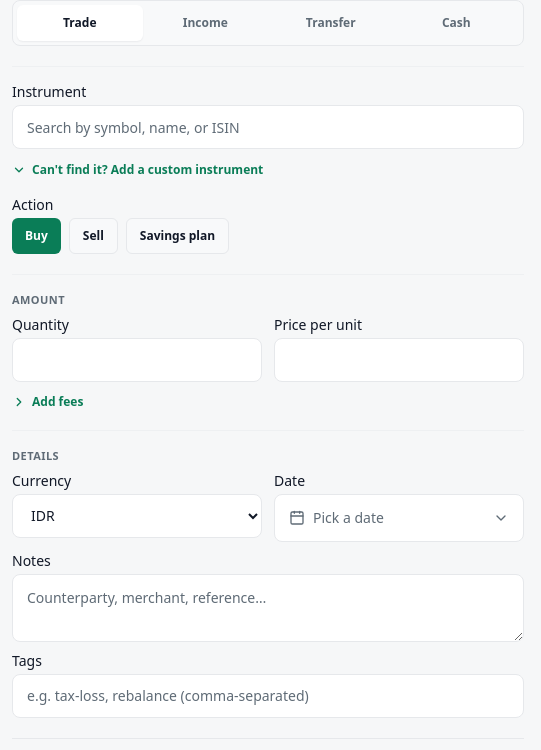
Scenario: add-transaction disclosures › collapses the fees/tax disclosure again — the button that says it is expanded must be able to close it
Click the button "Add fees" at (48, 402), box [12,394,83,410]
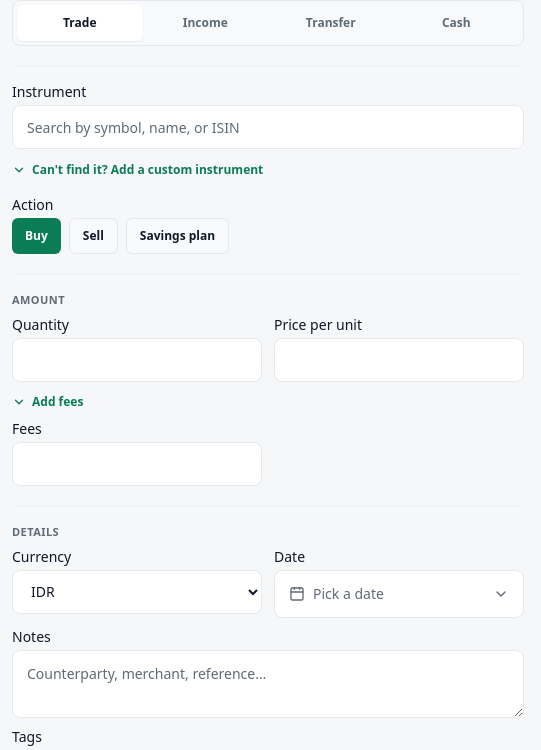
Expected: the button "Add fees" is expanded
Click the button "Add fees" at (48, 402), box [12,394,83,410]
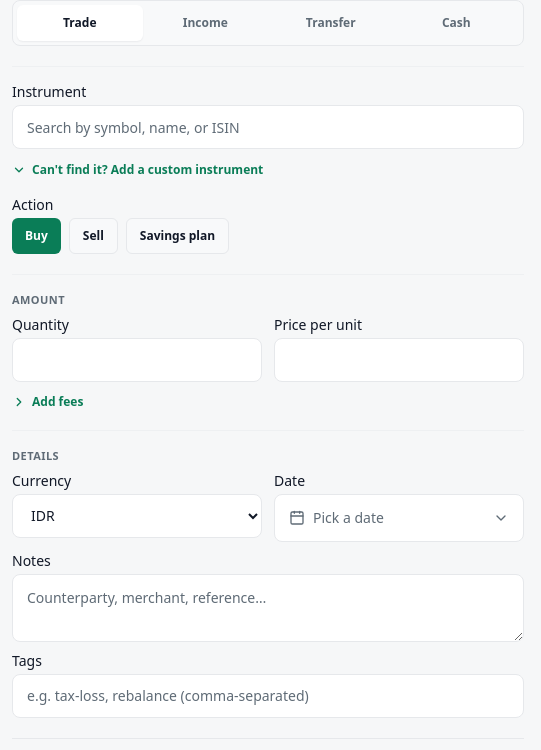
Expected: the button "Add fees" is collapsed, [12,394,83,410]
